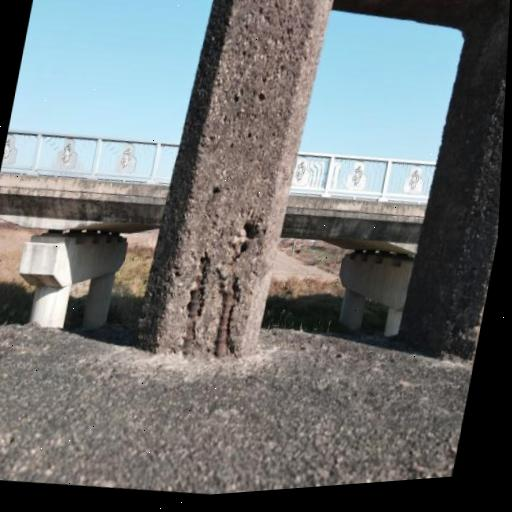exposed_rebar: (182, 258, 206, 354), (215, 279, 234, 358)
